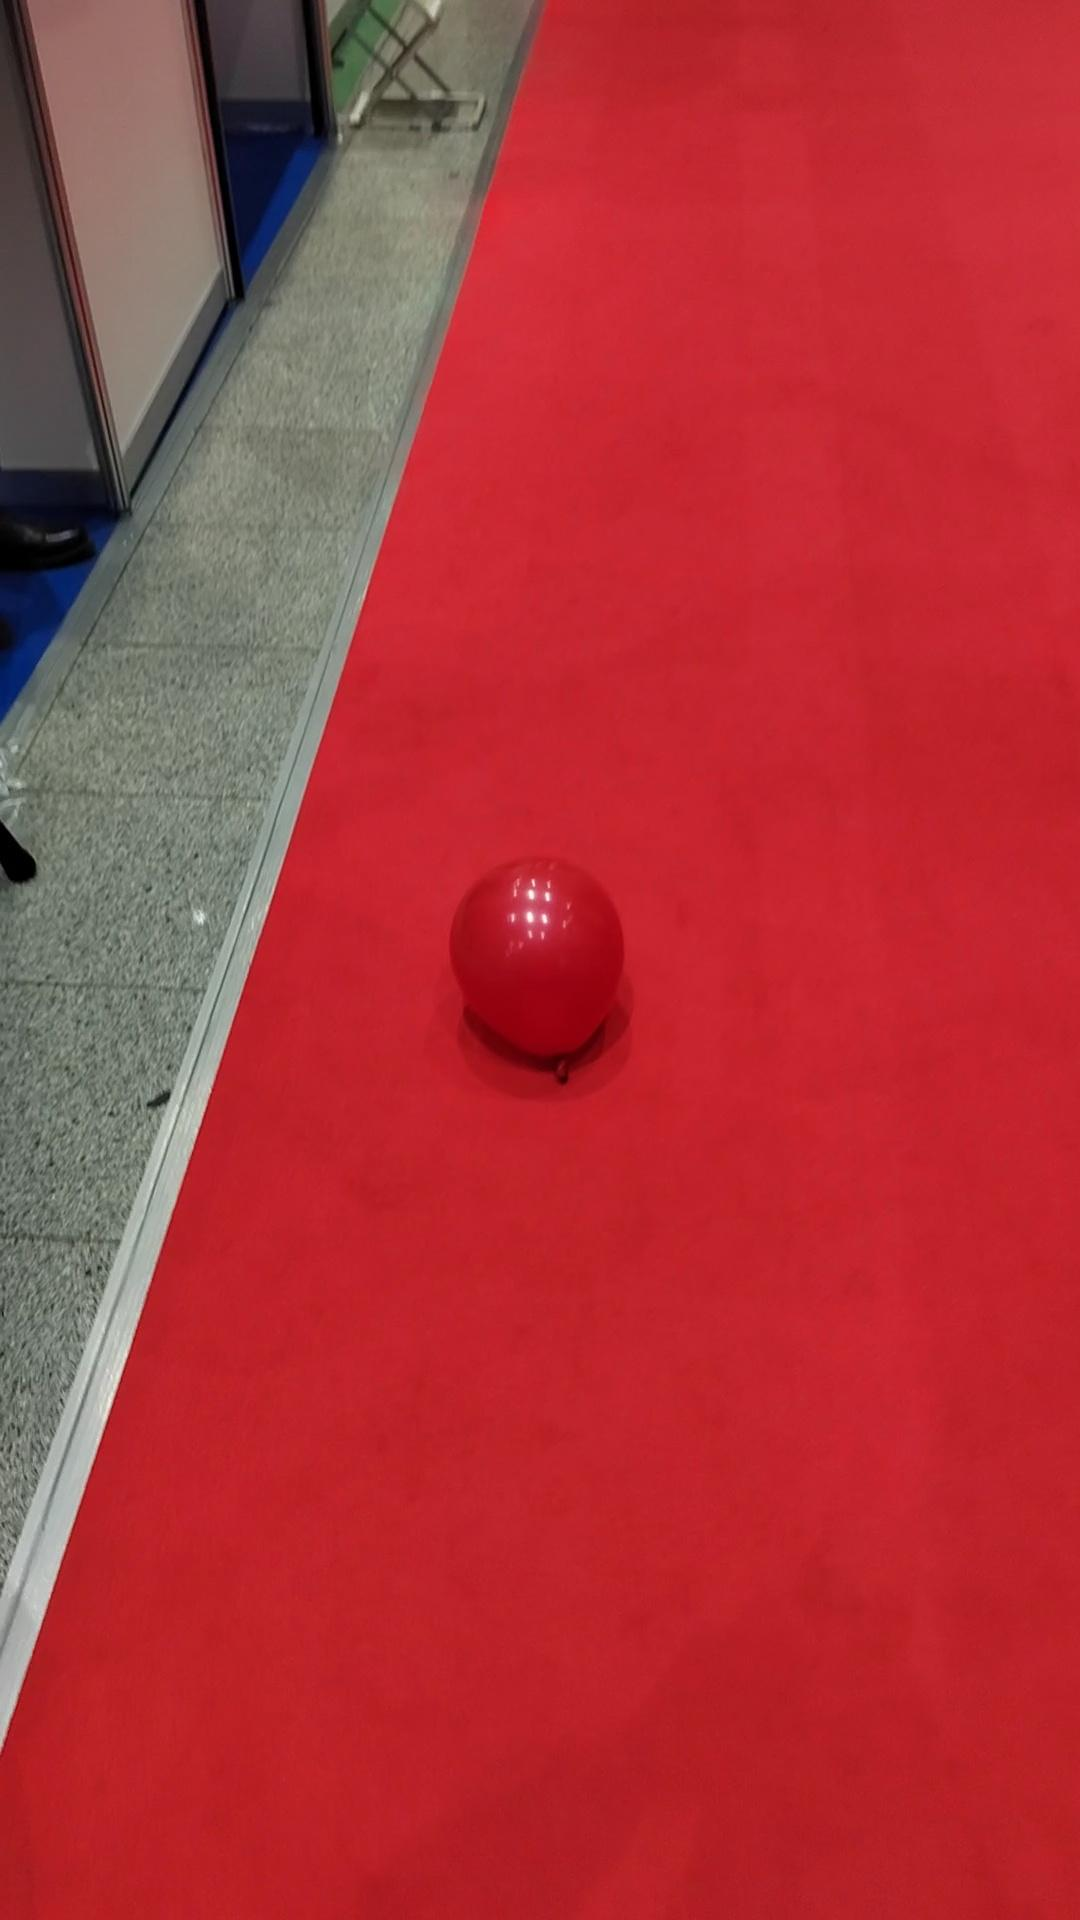red: (454, 844, 628, 1067)
